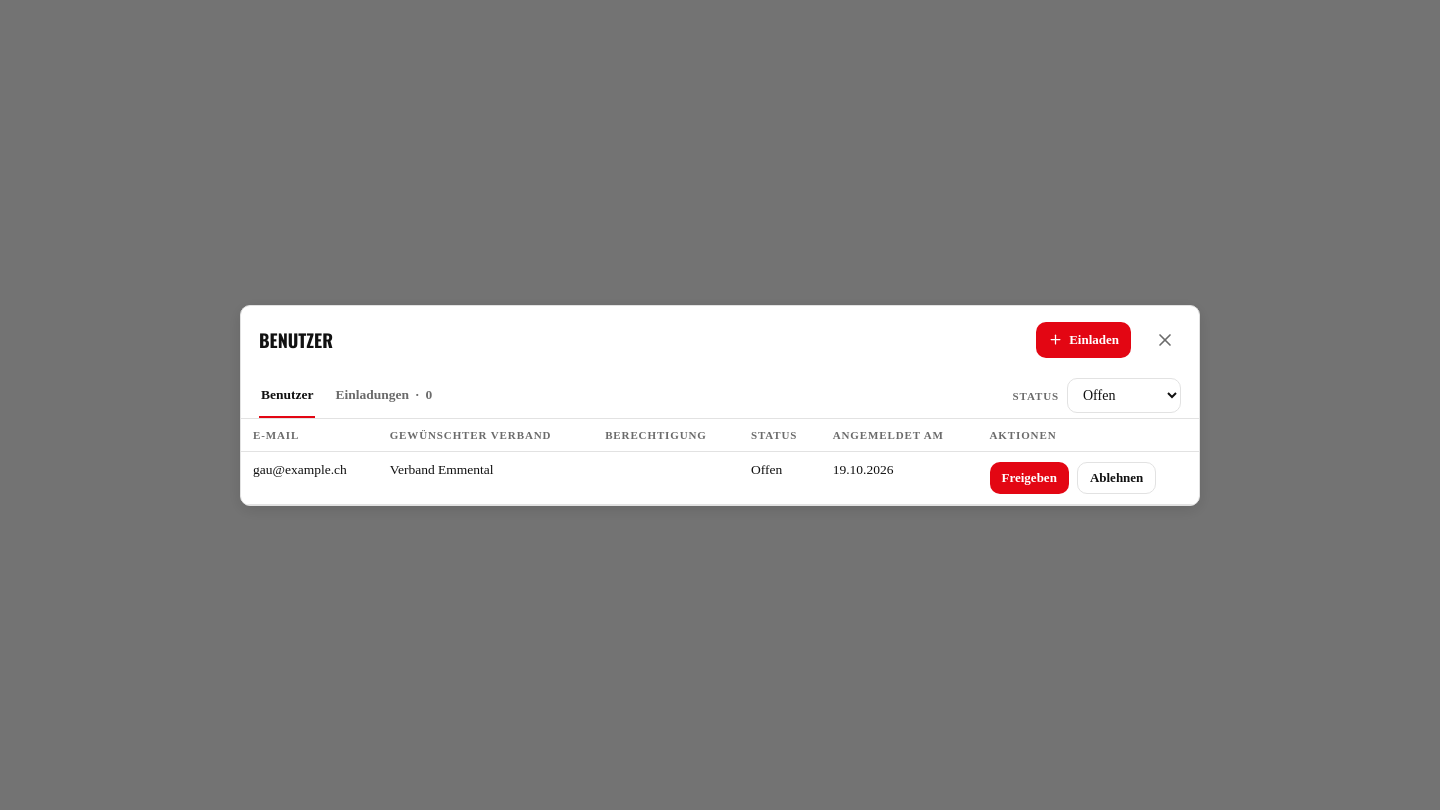
Test: AccountsPanel › rejects an account, once
The image size is (1440, 810).
Click the button "Ablehnen".
click(1117, 478)  # box [1077,462,1156,494]
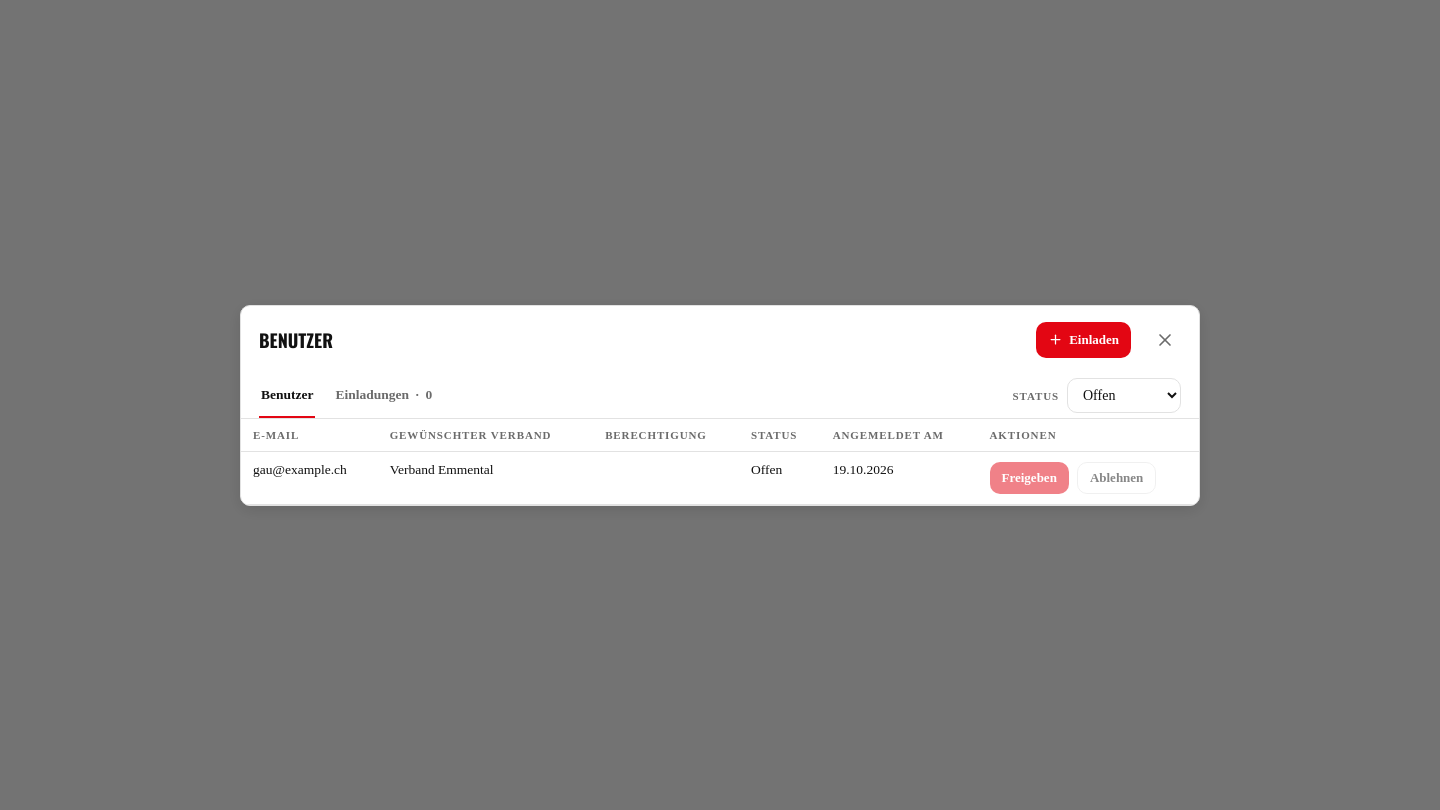
Check: the button "Ablehnen" is disabled, box [1077,462,1156,494]
